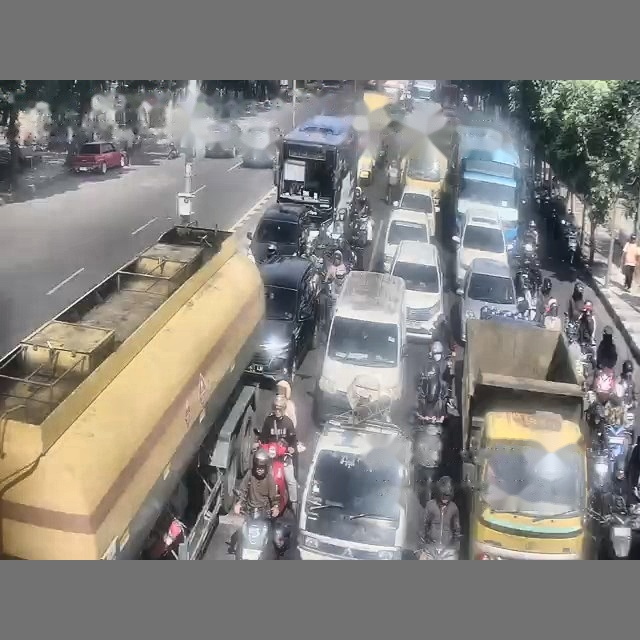Bis: (275, 115, 358, 218)
Mobil: (298, 420, 420, 559), (246, 256, 319, 381), (390, 241, 444, 340), (456, 258, 518, 342), (452, 212, 508, 281), (247, 203, 308, 263), (383, 209, 430, 272), (393, 185, 434, 235), (70, 142, 128, 174), (241, 122, 282, 167), (204, 122, 241, 157)
Motor: (258, 441, 289, 514)
Truk: (0, 226, 264, 559), (461, 318, 588, 559)
